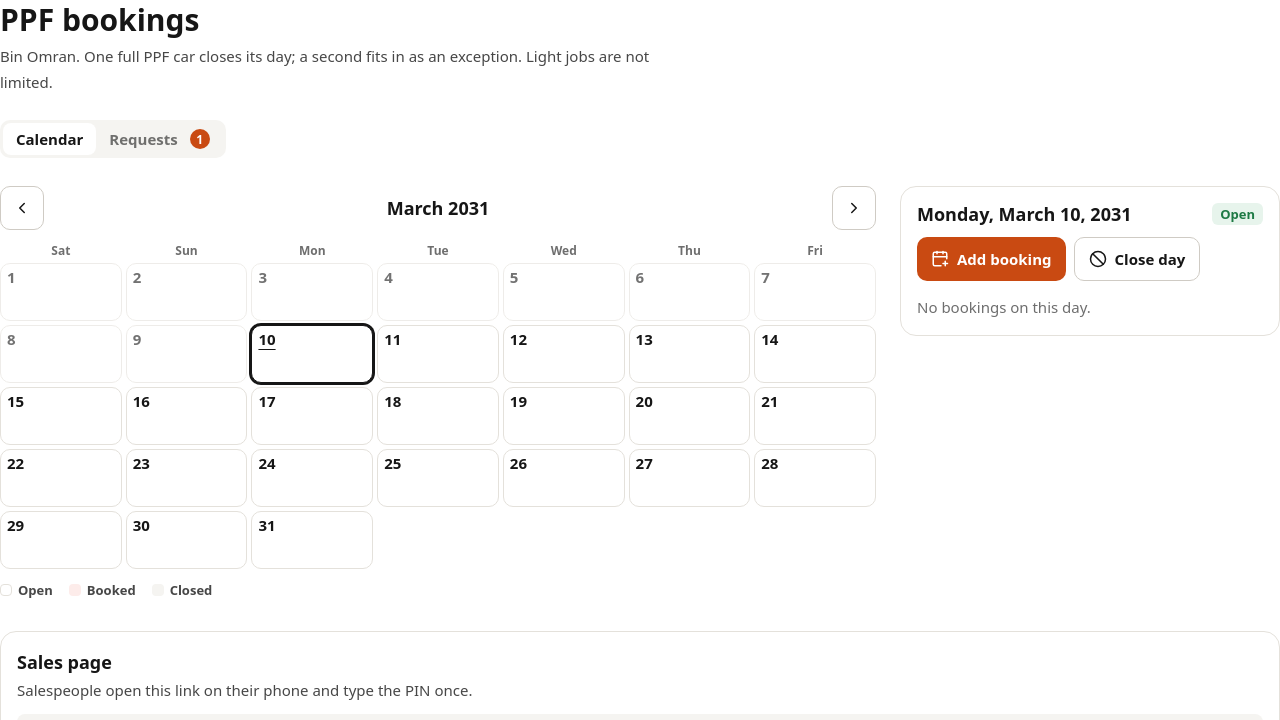
Test: PPF requests inbox › shows a full PPF request as one, with or without a note
Step 1. Click the tab "Requests 1" → coordinates (160, 139), box [96, 122, 223, 155]
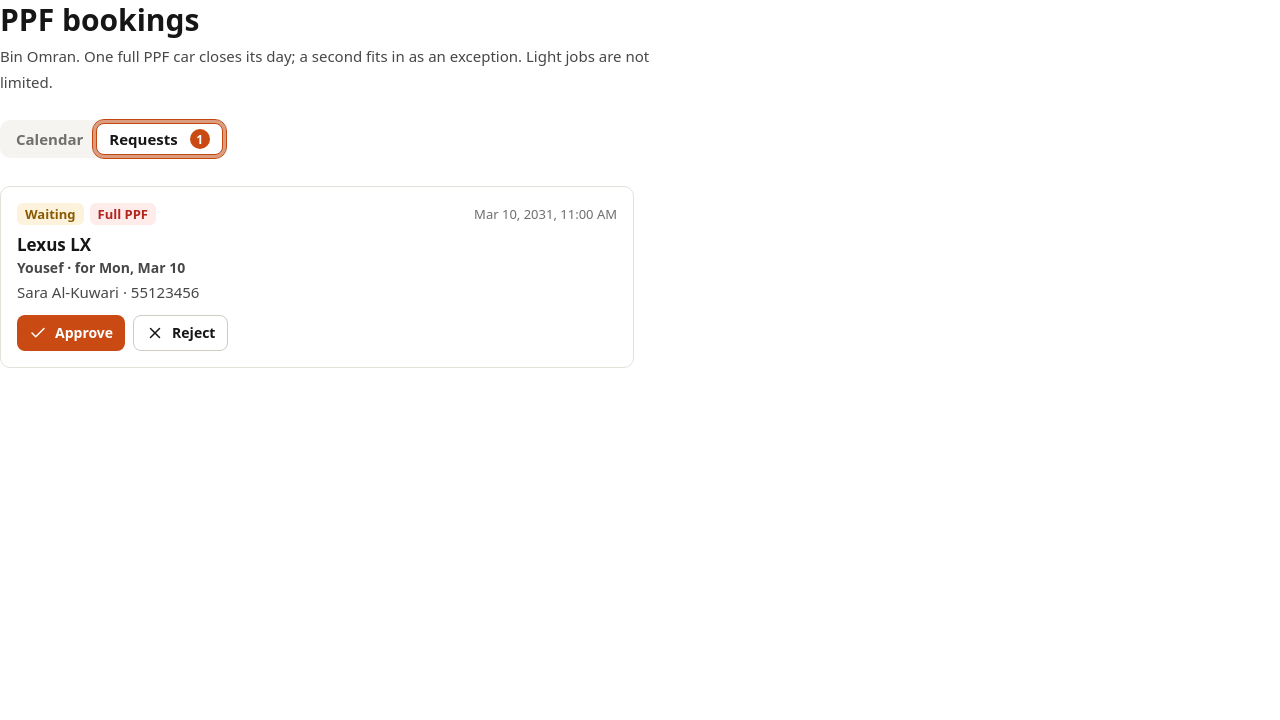
Result: the text "Full PPF" is shown at [90, 203, 156, 225]
Result: the button "Approve" is shown at [17, 315, 125, 351]
